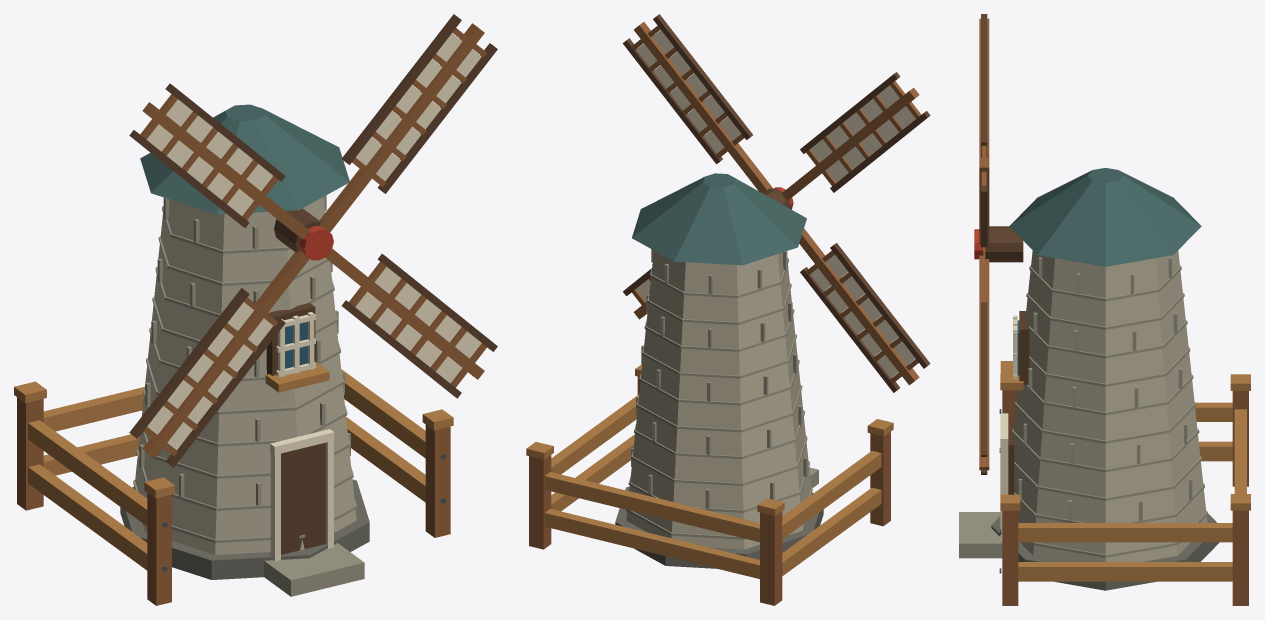
The model's file is windmill.glb.
3 renders of one model, left to right at view 1: azimuth 30°, elevation 25°; view 2: azimuth 150°, elevation 25°; view 3: azimuth 270°, elevation 25°, orthographic. The views are drawn at different scales.
Parts seen in each view (by area): view 1: body__stone2.002, windmill_rotor__wood, body__wood2.004, windmill_rotor__cream, windmill_rotor__wood_dark, body__stone.003, body__slate.002, body__wood.004, body__wood_dark.003, body__stone_dark.003, body__cream.004, windmill_rotor__red (+1 smaller); view 2: body__stone2.002, body__wood2.004, body__slate.002, windmill_rotor__wood, body__stone.003, windmill_rotor__cream, windmill_rotor__wood_dark, body__wood.004, body__stone_dark.003; view 3: body__stone2.002, body__wood2.004, body__slate.002, body__stone.003, body__wood.004, windmill_rotor__wood_dark, windmill_rotor__wood, body__stone_dark.003, body__wood_dark.003, body__cream.004.
Part boxes in pixels (<box>): body__stone2.002: <box>134,197,356,554</box>; windmill_rotor__wood: <box>140,23,486,458</box>; body__wood2.004: <box>14,362,453,570</box>; windmill_rotor__cream: <box>146,33,481,450</box>; windmill_rotor__wood_dark: <box>129,14,497,467</box>; body__stone.003: <box>133,195,364,596</box>; body__slate.002: <box>140,104,349,214</box>; body__wood.004: <box>17,397,450,605</box>; body__wood_dark.003: <box>266,303,325,554</box>; body__stone_dark.003: <box>120,479,369,579</box>; body__cream.004: <box>270,312,334,561</box>; windmill_rotor__red: <box>299,226,333,260</box>; body__stone2.002: <box>626,250,811,549</box>; body__wood2.004: <box>526,364,893,578</box>; body__slate.002: <box>632,173,806,265</box>; windmill_rotor__wood: <box>631,22,921,385</box>; body__stone.003: <box>626,249,818,539</box>; windmill_rotor__cream: <box>636,30,915,378</box>; windmill_rotor__wood_dark: <box>623,14,930,392</box>; body__wood.004: <box>529,376,890,605</box>; body__stone_dark.003: <box>615,486,823,568</box>; body__stone2.002: <box>1013,250,1207,561</box>; body__wood2.004: <box>1000,361,1250,581</box>; body__slate.002: <box>1009,168,1201,266</box>; body__stone.003: <box>959,257,1207,558</box>; body__wood.004: <box>1002,390,1248,605</box>; windmill_rotor__wood_dark: <box>981,14,1023,474</box>; windmill_rotor__wood: <box>979,18,989,470</box>; body__stone_dark.003: <box>991,513,1219,590</box>; body__wood_dark.003: <box>1008,311,1029,494</box>; body__cream.004: <box>1000,315,1017,540</box>.
Bounding box in the file's own units: 3.72 × 5.14 × 2.91.
